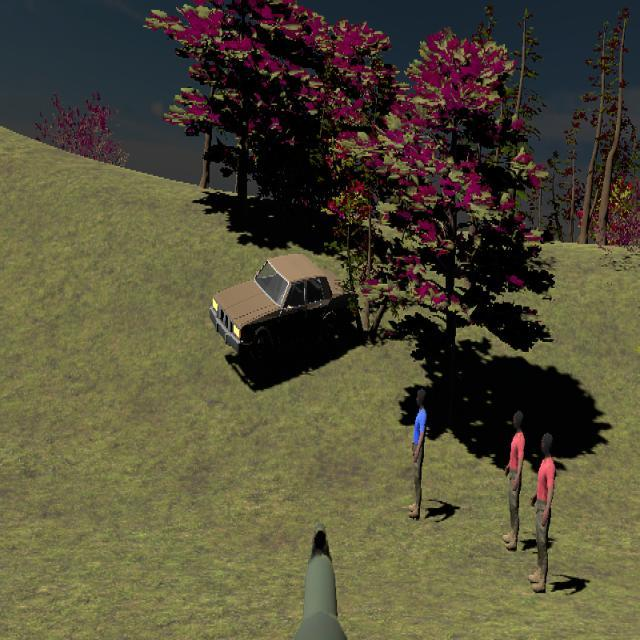Human: (528, 432, 556, 594), (502, 410, 525, 551), (407, 388, 427, 519)
car: (209, 255, 360, 369)
